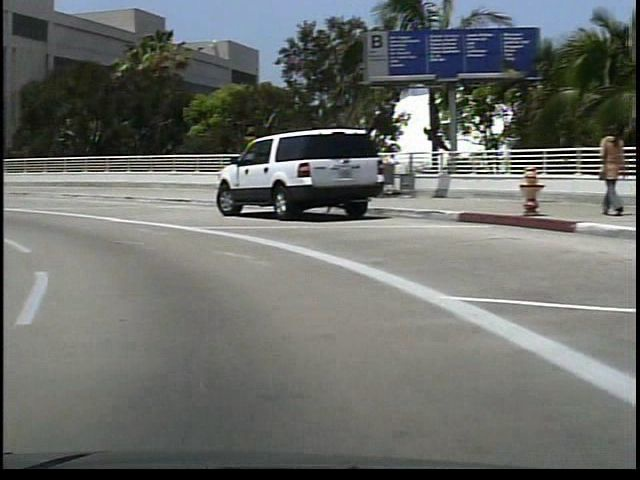person: (587, 122, 617, 219)
